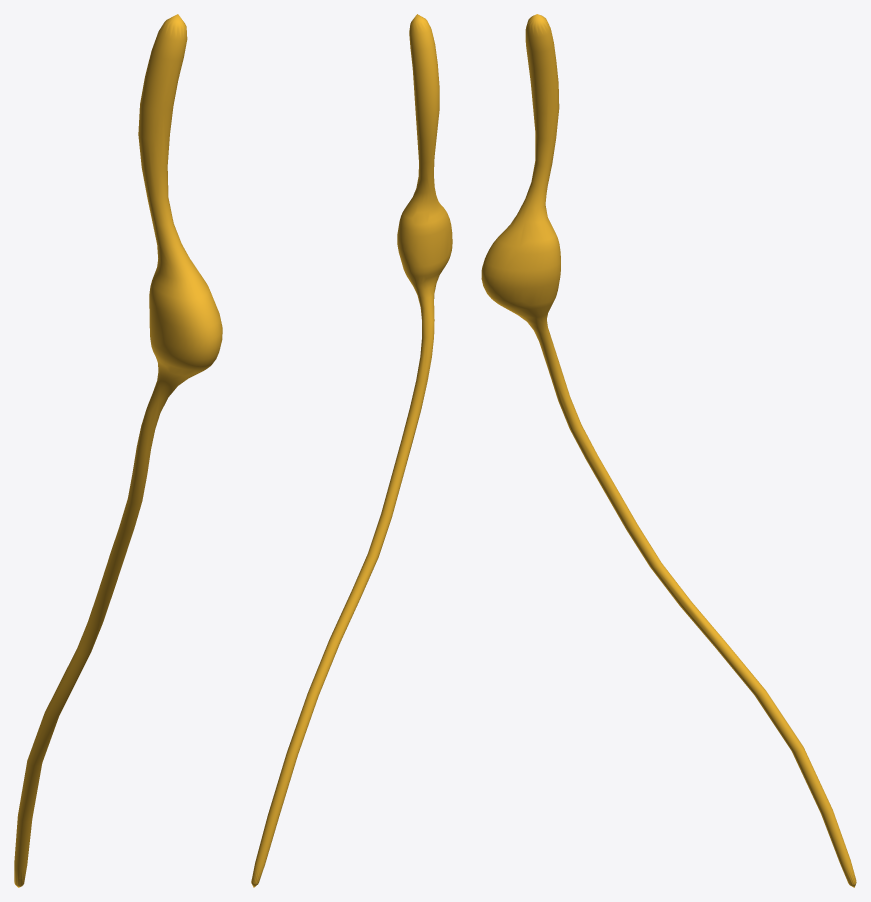
Rendered from nervoso-sensory-root-of-trigeminal-nerve-r.glb.
3 renders of one model, left to right at view 1: azimuth 30°, elevation 25°; view 2: azimuth 150°, elevation 25°; view 3: azimuth 270°, elevation 25°, orthographic. The views are drawn at different scales.
Parts seen in each view (by area): view 1: Sensory root of trigeminal nerve.r; view 2: Sensory root of trigeminal nerve.r; view 3: Sensory root of trigeminal nerve.r.
Part boxes in pixels (x1,y1,x2,y2): Sensory root of trigeminal nerve.r: [14, 14, 222, 887]; Sensory root of trigeminal nerve.r: [251, 14, 452, 887]; Sensory root of trigeminal nerve.r: [481, 14, 856, 887].
Bounding box in the file's own units: 0.00439 × 0.0668 × 0.0263.
